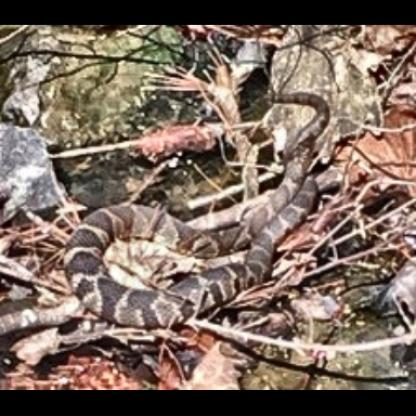Snake: (58, 84, 335, 328)
